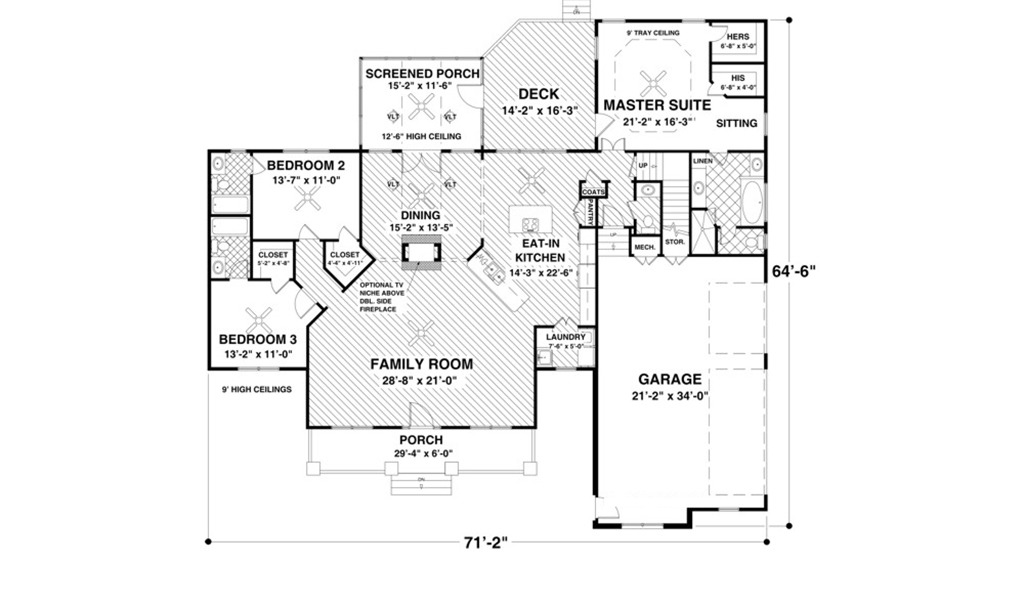door: (291, 286, 318, 320), (450, 80, 482, 108), (295, 222, 318, 244), (593, 112, 614, 135), (335, 222, 357, 243), (709, 24, 729, 43)
kitchen_bar: (506, 204, 556, 236)
large_sink: (637, 212, 660, 235), (206, 239, 233, 256)
small_sink: (690, 167, 705, 207), (635, 178, 660, 198), (210, 257, 227, 280), (750, 154, 763, 180)
stairs: (380, 470, 453, 502)
tub: (740, 179, 763, 225), (210, 218, 250, 239), (211, 193, 250, 212)
windows: (280, 144, 337, 154), (623, 520, 670, 531)
